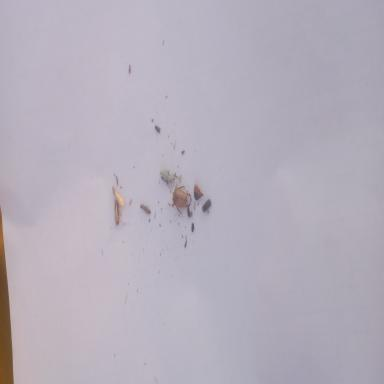pbw: (112, 185, 125, 212), (113, 199, 126, 225)
